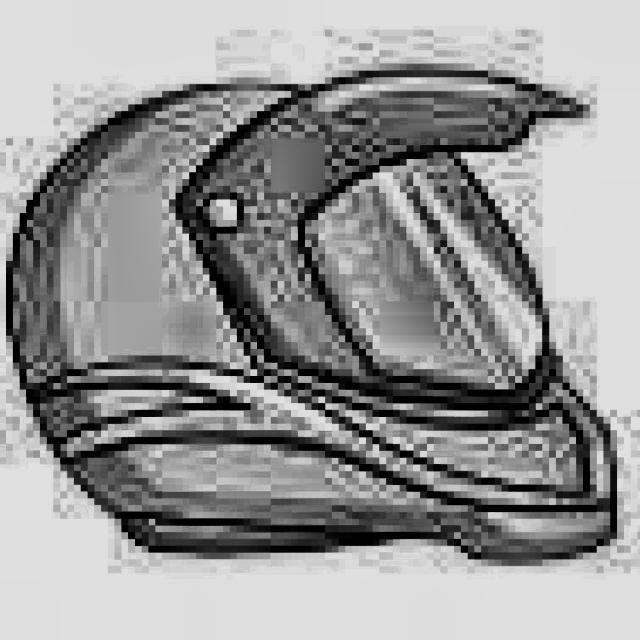Helmet: (2, 17, 627, 598)
